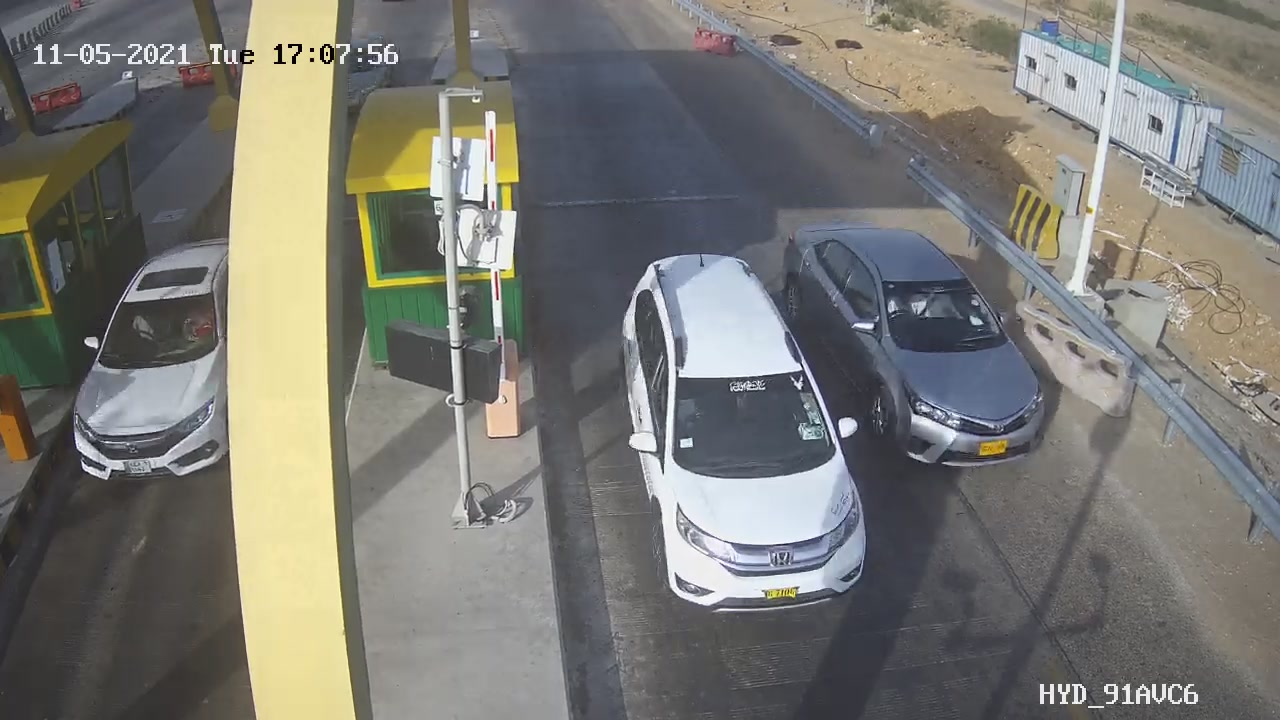F1: (764, 203, 1085, 490)
